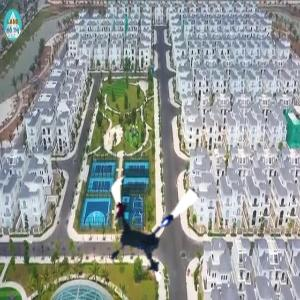drone: (88, 165, 206, 283)
